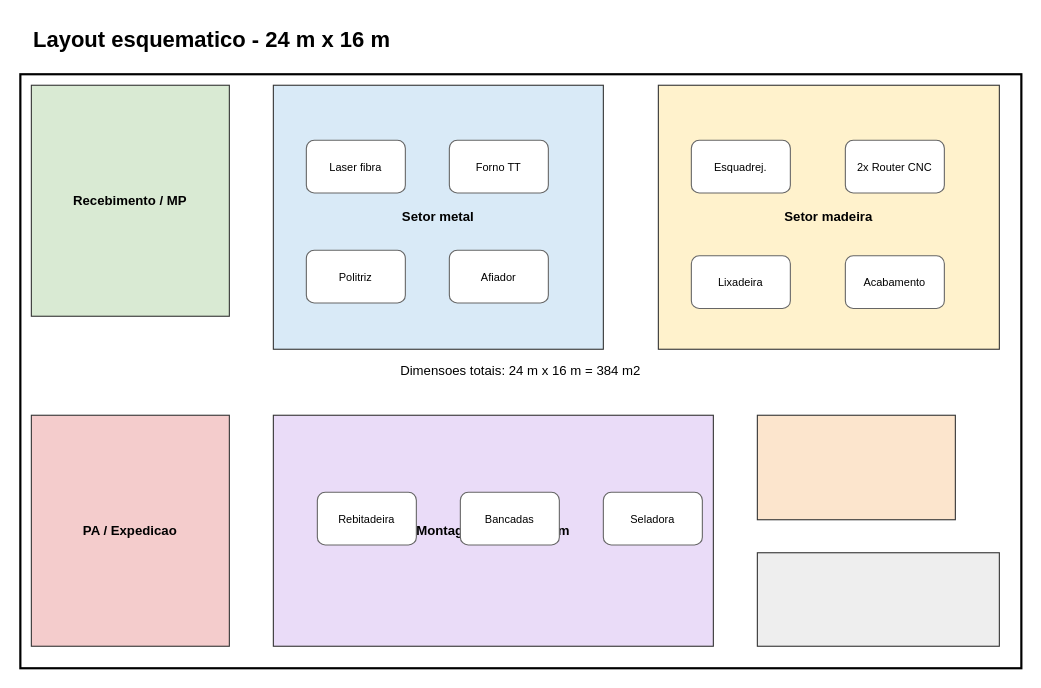
This 1041x688 diagram has some shape labels left out. The shapes that lost their labels are listed below. From the top down, each one's centre as x and y in pixels, then its label:
At (855,467): "Inspecao / CQ".
At (877,599): "Apoio / manutencao".
